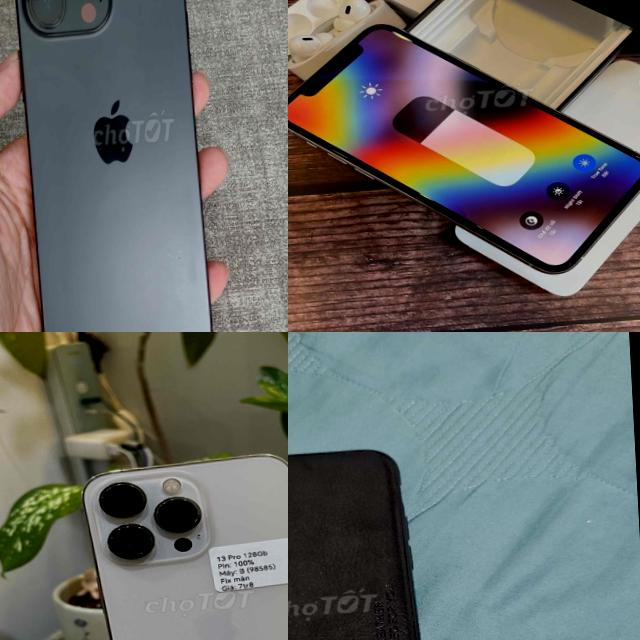gen_11: (288, 3, 640, 289)
gen_12_13: (78, 441, 288, 640)
gen_15: (0, 0, 228, 332)
gen_6: (288, 441, 465, 640)
